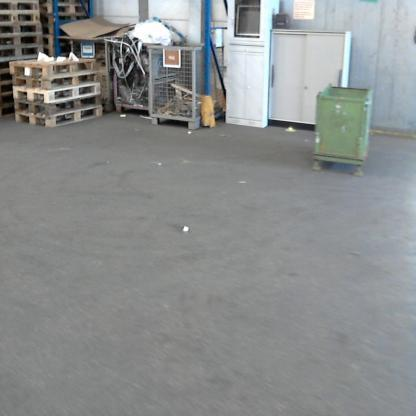pallets: (0, 0, 96, 115), (9, 57, 107, 129)
